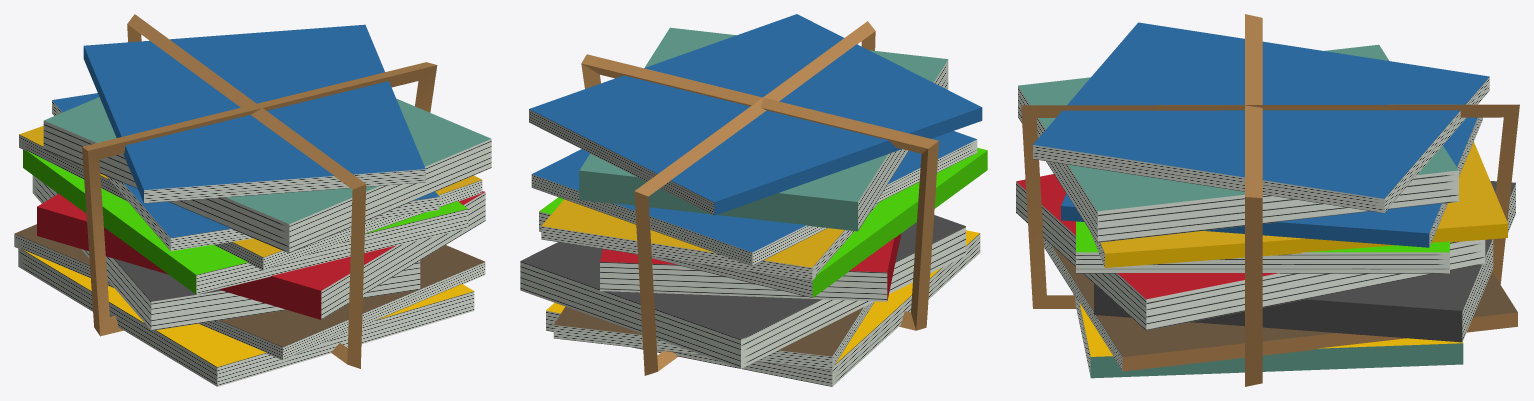
File: BasuraRevistas.FBX
3 renders of one model, left to right at view 1: azimuth 30°, elevation 25°; view 2: azimuth 150°, elevation 25°; view 3: azimuth 270°, elevation 25°, orthographic. The views are drawn at different scales.
Parts seen in each view (by area): view 1: Box026; view 2: Box026; view 3: Box026.
Boxes of the visible parts, <box> form: Box026: <box>14,14,491,386</box>; Box026: <box>520,14,987,386</box>; Box026: <box>1016,14,1519,386</box>.
Size of the model in its own units: 74.08 by 38.4 by 85.28.
